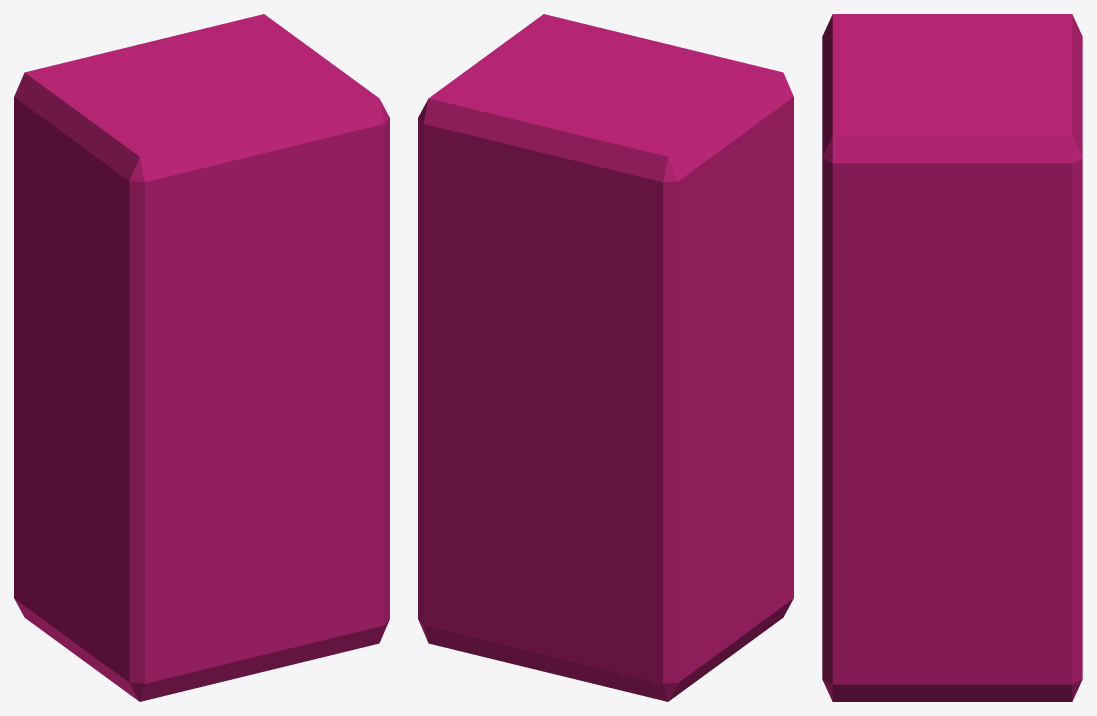
The model's file is na_vending.glb.
3 renders of one model, left to right at view 1: azimuth 30°, elevation 25°; view 2: azimuth 150°, elevation 25°; view 3: azimuth 270°, elevation 25°, orthographic. The views are drawn at different scales.
Visible parts, largest first — view 1: Cube; view 2: Cube; view 3: Cube.
Boxes of the visible parts, x1=… form: Cube: x1=14, y1=14, x2=389, y2=701; Cube: x1=418, y1=14, x2=793, y2=701; Cube: x1=822, y1=14, x2=1082, y2=701.
Size of the model in its own units: 1.2 by 2.4 by 1.
